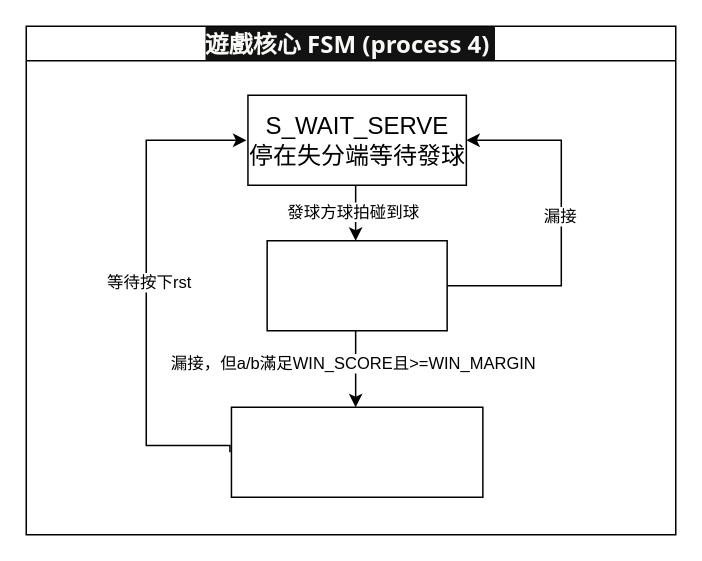
This 702x561 diagram has some shape labels left out. The box of each missing label's shape, as (x1, y1, x2, y2) in pixels:
S_GAME_OVER 整個定格，直到下次rst: (230, 406, 483, 497)
S_PLAYING: (266, 239, 447, 331)
